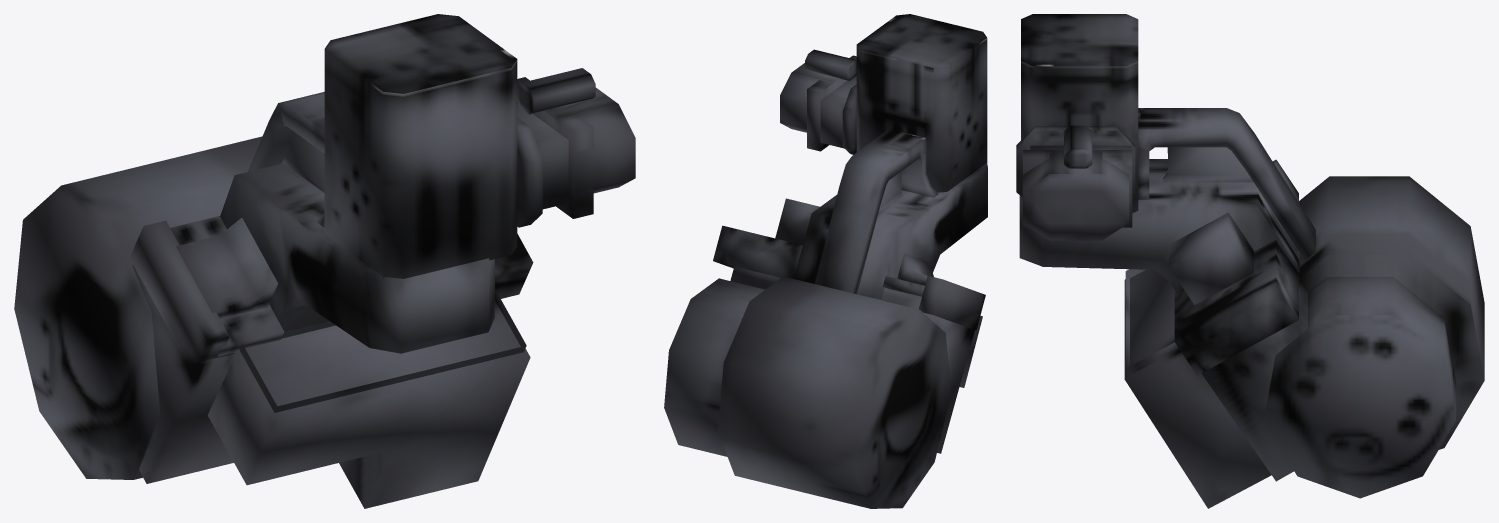
File: l_clav.obj
3 renders of one model, left to right at view 1: azimuth 30°, elevation 25°; view 2: azimuth 150°, elevation 25°; view 3: azimuth 270°, elevation 25°, orthographic. The views are drawn at different scales.
Parts seen in each view (by area): view 1: <dummy_root>; view 2: <dummy_root>; view 3: <dummy_root>.
Boxes of the visible parts, x1,y1,x2,y2 form: <dummy_root>: (14, 14, 635, 508); <dummy_root>: (664, 14, 987, 508); <dummy_root>: (1016, 14, 1484, 508).
Bounding box in the file's own units: 0.1202 × 0.1793 × 0.1828.
Materials: 1 (1 with a texture image).
